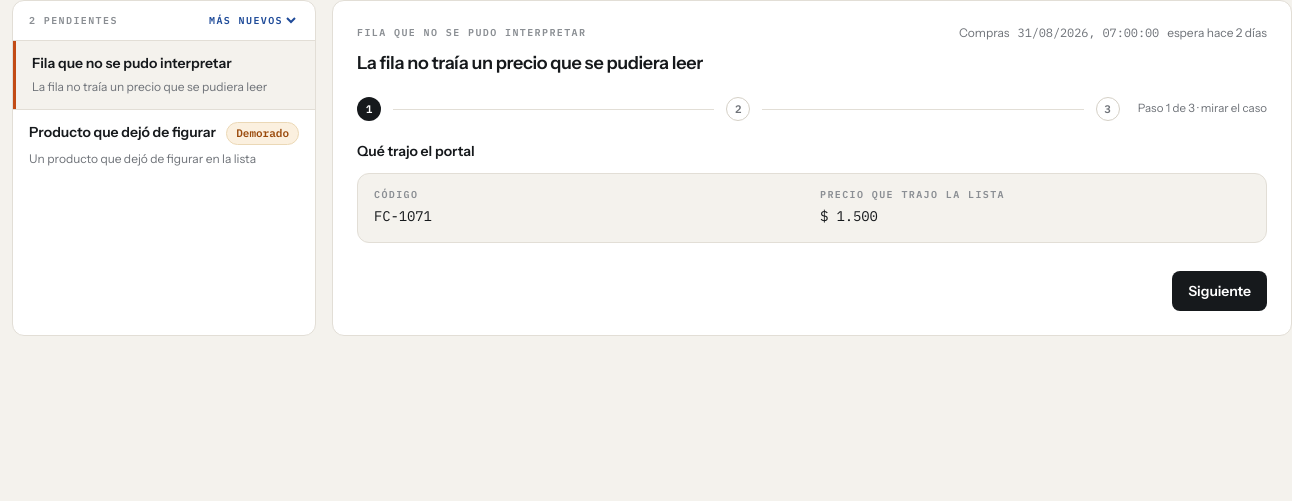
la cola de pendientes › abre el primero y cambia de caso cuando se elige otro
Expected: the heading "La fila no traía un precio que se pudiera leer" is shown, [357, 52, 703, 74]
Click the button "Producto que dejó de figurar": [123, 132] box [13, 110, 315, 180]
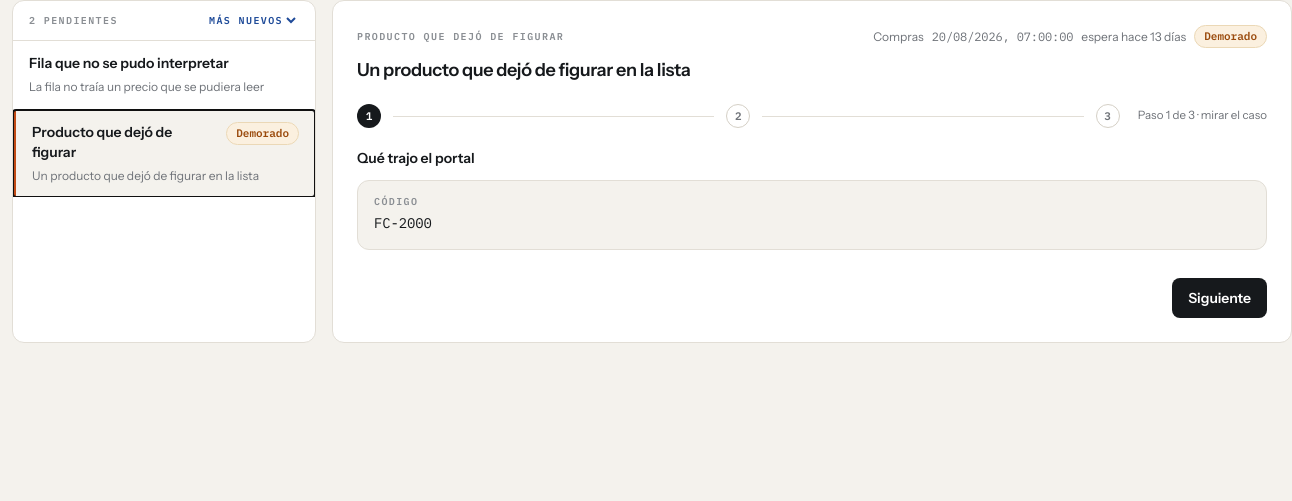
Result: the heading "Un producto que dejó de figurar en la lista" is shown at [357, 59, 690, 81]
Note: Y con el caso cambia la decisión que se ofrece: cada clase tiene la suya.
Click the button "Siguiente": [1220, 298] box [1172, 278, 1267, 318]
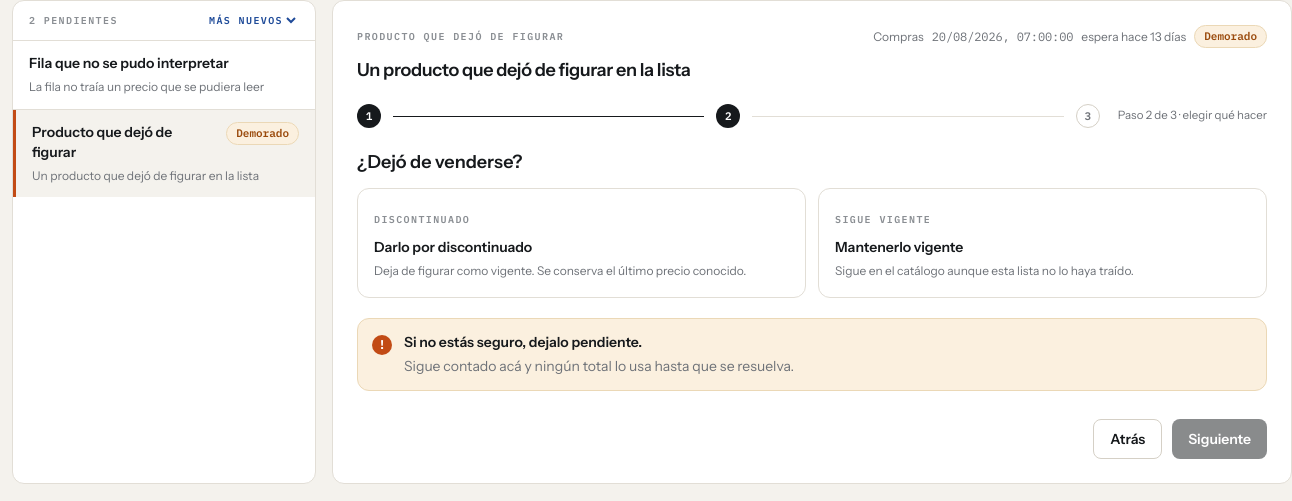
Result: the button "Darlo por discontinuado" is shown at [357, 188, 806, 298]
